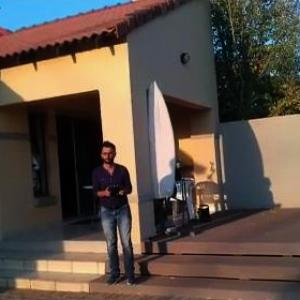follow: (86, 136, 136, 292)
